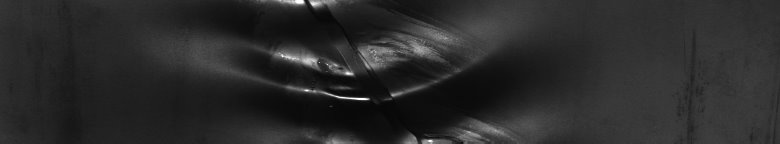ke: (201, 4, 524, 136)
